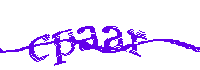a: (77, 24, 102, 54), (101, 25, 124, 55)
c: (29, 32, 53, 63)
p: (54, 28, 76, 66)
r: (127, 26, 146, 59)
